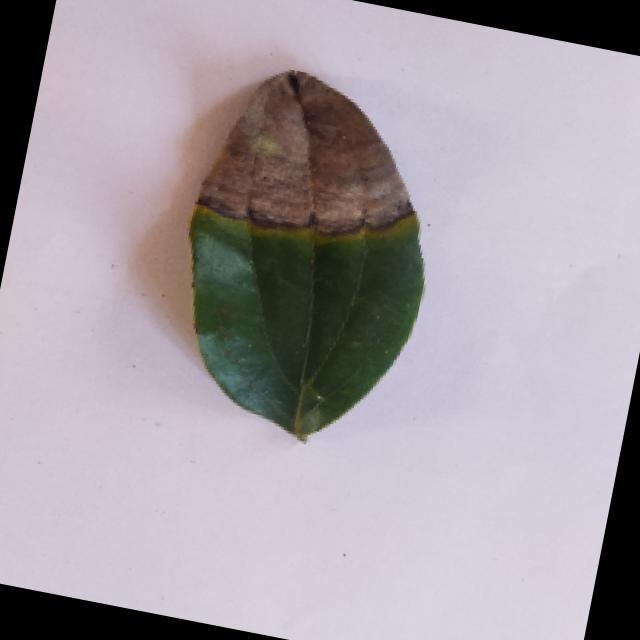footrot: (128, 52, 466, 477)
